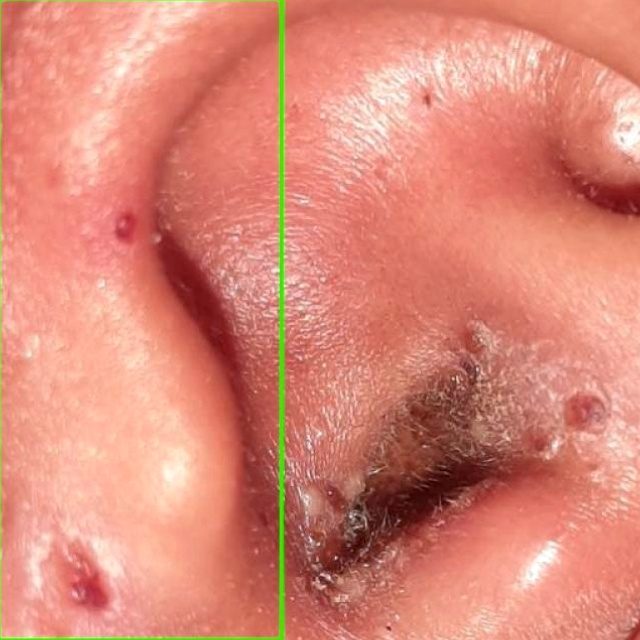Contact Dermatitis: (0, 0, 282, 639)
